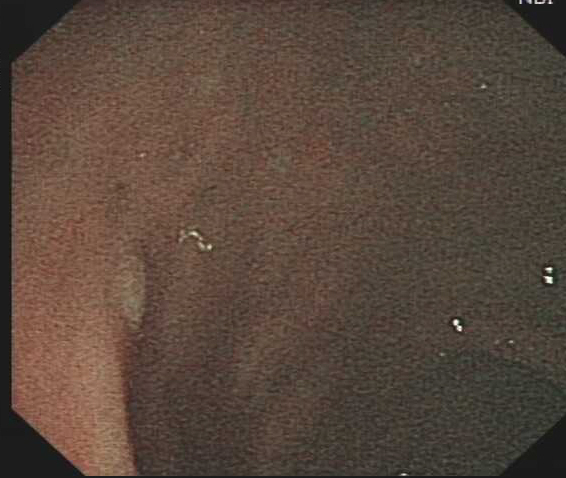others: (110, 248, 145, 329)
